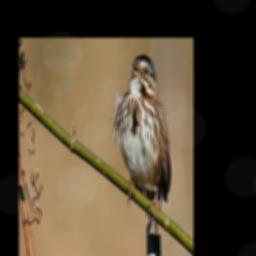Sparrow: (111, 52, 171, 256)
